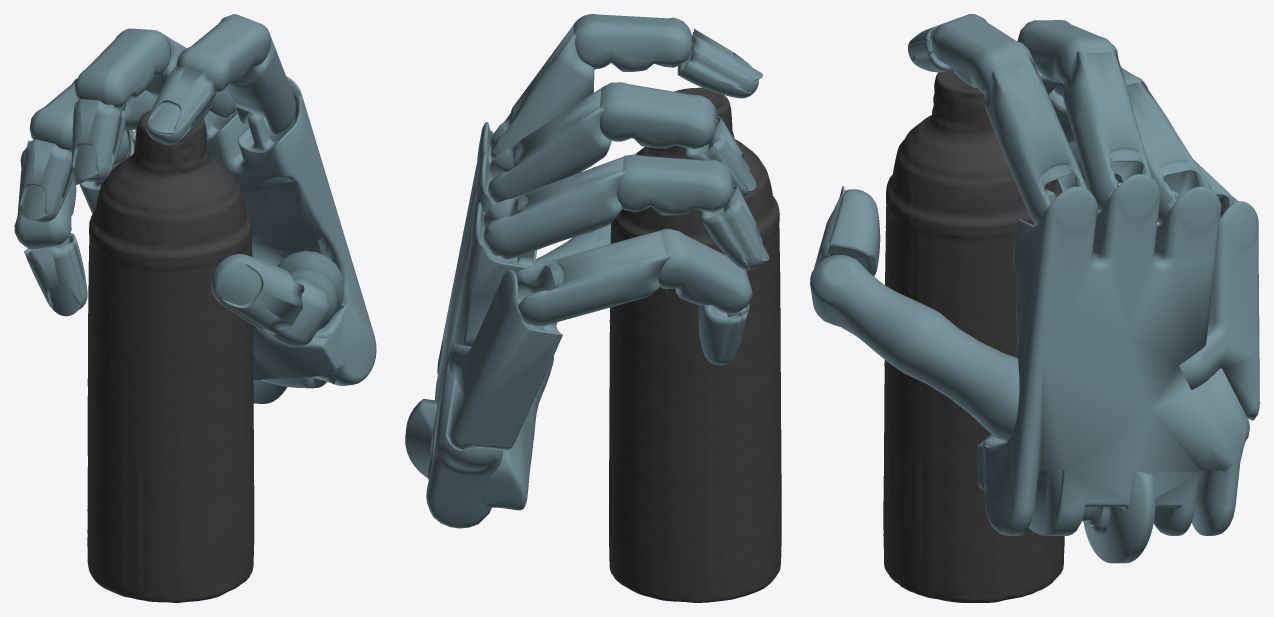
The picture shows the model from 3 angles, left to right: view 1: azimuth 30°, elevation 25°; view 2: azimuth 150°, elevation 25°; view 3: azimuth 270°, elevation 25°; orthographic projection. The views are drawn at different scales.
Visible parts, largest first — view 1: world; view 2: world; view 3: world.
Part boxes in pixels (box(x1,y1,x2,y2)): world: box(14, 14, 376, 602); world: box(405, 14, 781, 602); world: box(810, 14, 1259, 602).
Size of the model in its own units: 0.1306 by 0.1957 by 0.1397.
Materials: 1 (1 with a texture image).
